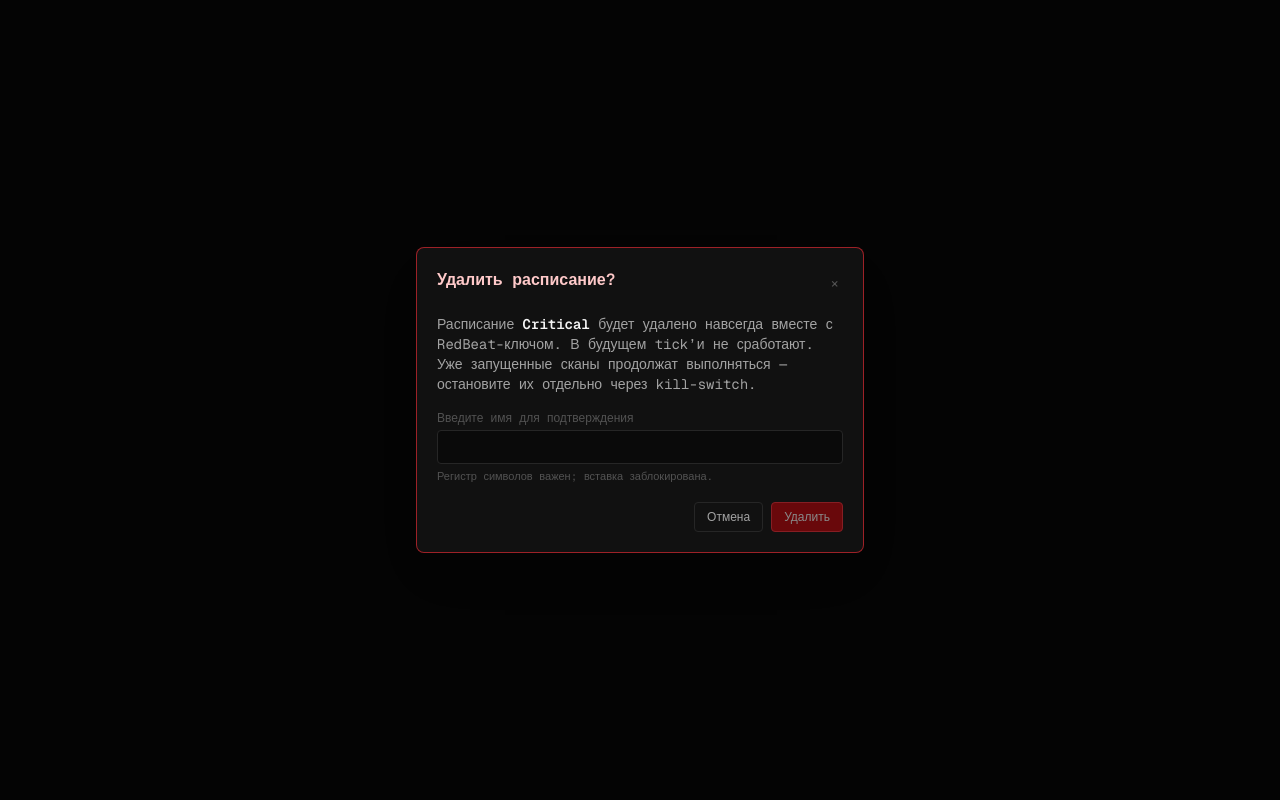
Scenario: DeleteScheduleDialog › disables submit until typed name matches exactly
Expected: the button with test id "delete-schedule-confirm" is disabled, [771,502,843,532]
Type "critical" into the field with test id "delete-schedule-typed-name" at (640, 447), box [437,430,843,464]
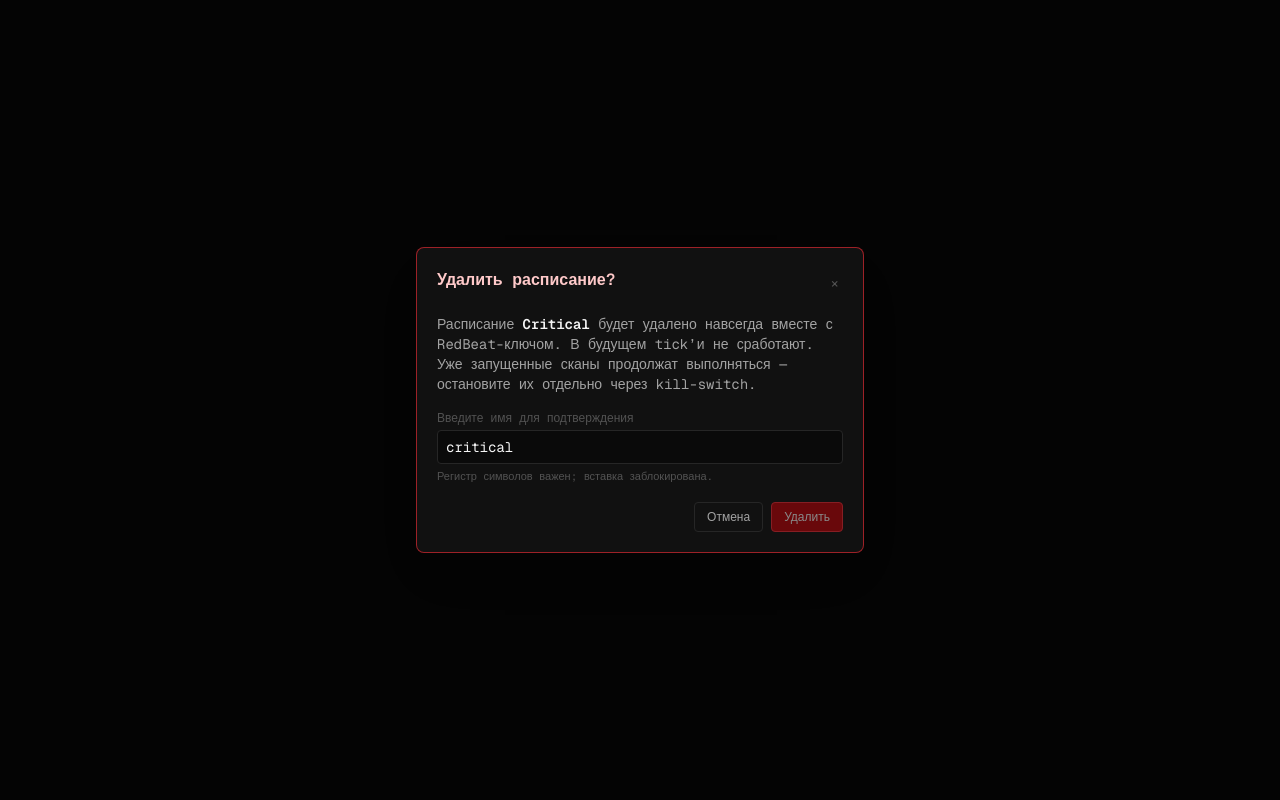
Expected: the button with test id "delete-schedule-confirm" is disabled, [771,502,843,532]
Replace the text in the field with test id "delete-schedule-typed-name" with "Critical" at (640, 447), box [437,430,843,464]
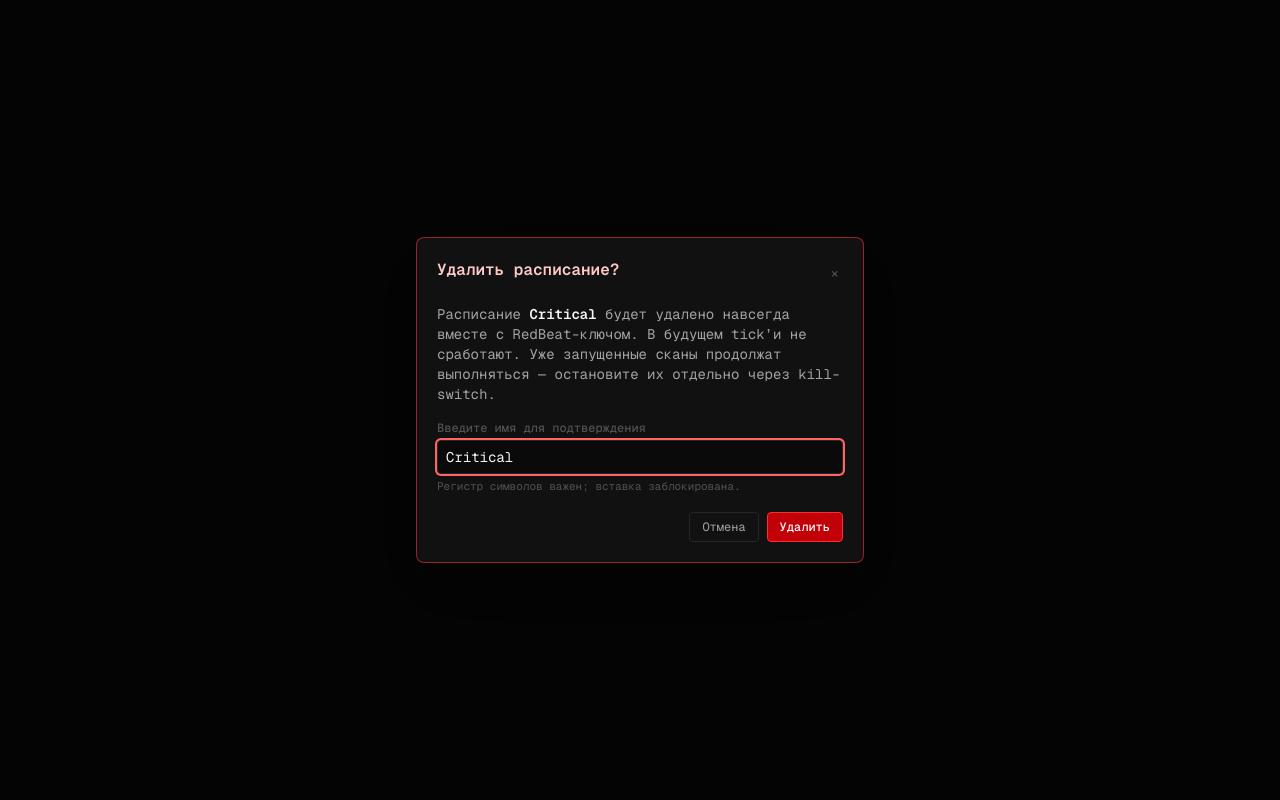
Expected: the button with test id "delete-schedule-confirm" is enabled, [767,512,843,542]
